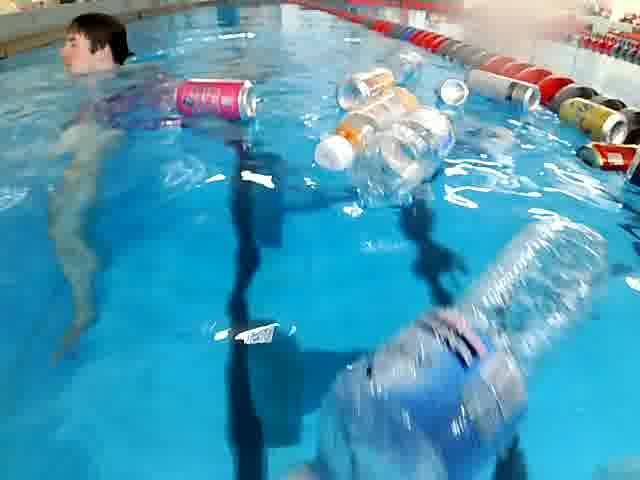Bottle: (271, 206, 617, 480), (351, 104, 467, 206), (309, 83, 422, 181)
Can: (168, 74, 262, 126), (554, 94, 630, 148), (459, 68, 544, 114), (572, 127, 640, 176), (329, 66, 393, 112), (434, 76, 479, 106)
